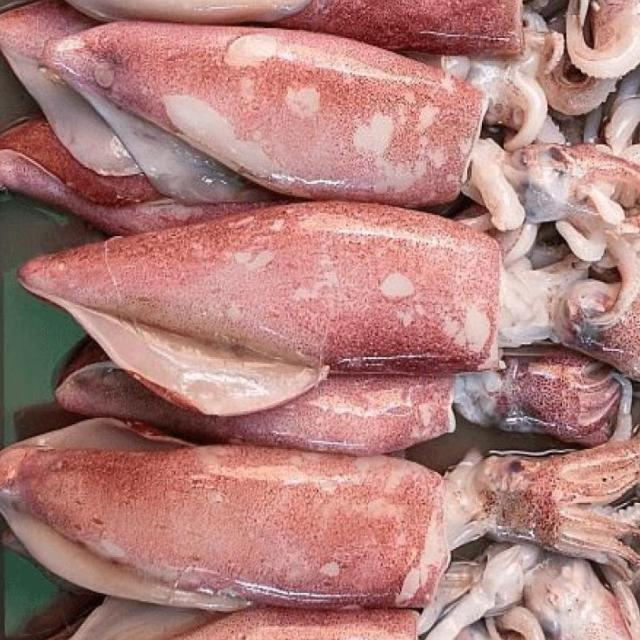SQUID: (0, 393, 640, 627), (4, 0, 568, 247), (13, 195, 640, 408)
